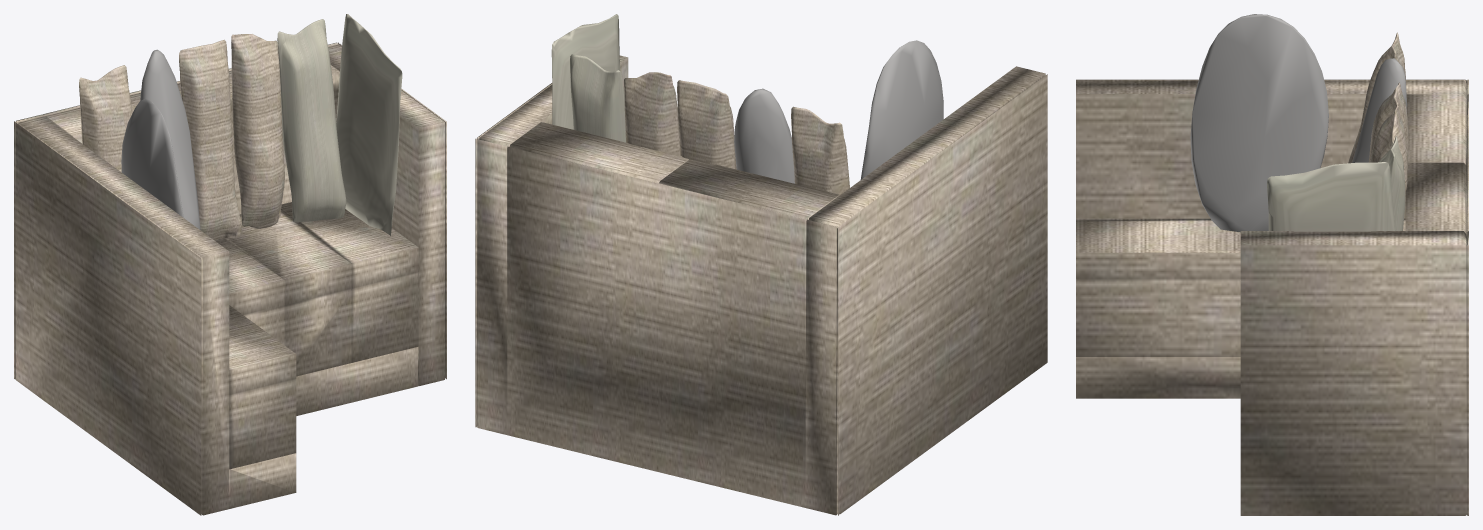
Rendered from sh-bsby-corner-sofa.glb.
3 renders of one model, left to right at view 1: azimuth 30°, elevation 25°; view 2: azimuth 150°, elevation 25°; view 3: azimuth 270°, elevation 25°, orthographic. The views are drawn at different scales.
Visible parts, largest first — view 1: 1_1, 6_7, podush_1_2; view 2: 1_1, podush_1_2, 6_7; view 3: 1_1, podush_1_2, 6_7.
Boxes of the visible parts, x1=… form: 1_1: x1=14, y1=34, x2=446, y2=515; 6_7: x1=277, y1=14, x2=402, y2=235; podush_1_2: x1=121, y1=49, x2=200, y2=229; 1_1: x1=475, y1=55, x2=1047, y2=515; podush_1_2: x1=734, y1=40, x2=943, y2=183; 6_7: x1=551, y1=14, x2=625, y2=142; 1_1: x1=1076, y1=32, x2=1468, y2=515; podush_1_2: x1=1190, y1=14, x2=1407, y2=232; 6_7: x1=1267, y1=136, x2=1405, y2=231.
Size of the model in its own units: 1 by 1 by 1.
3 materials, 2 textured.
